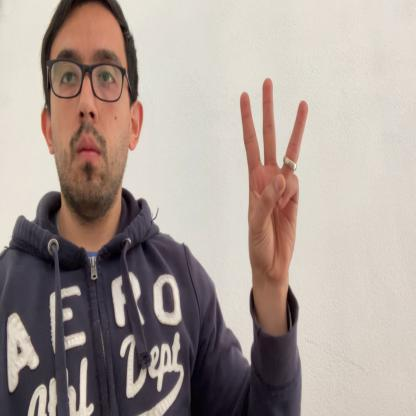W: (240, 77, 308, 290)
